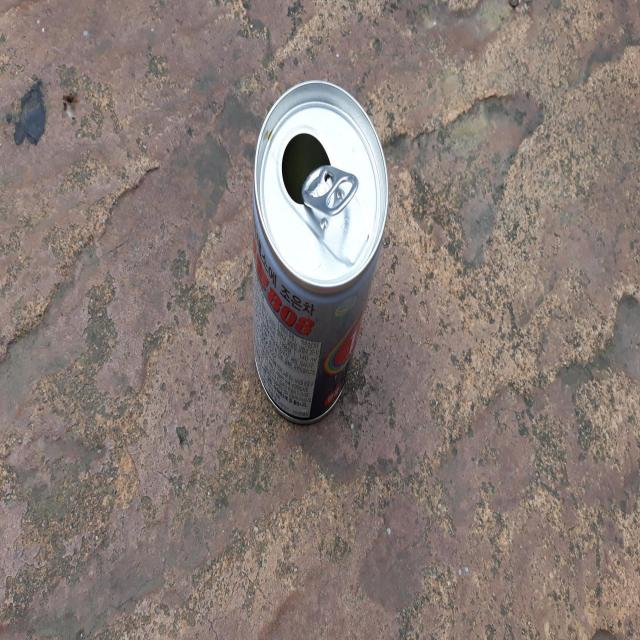can: (253, 79, 388, 422)
